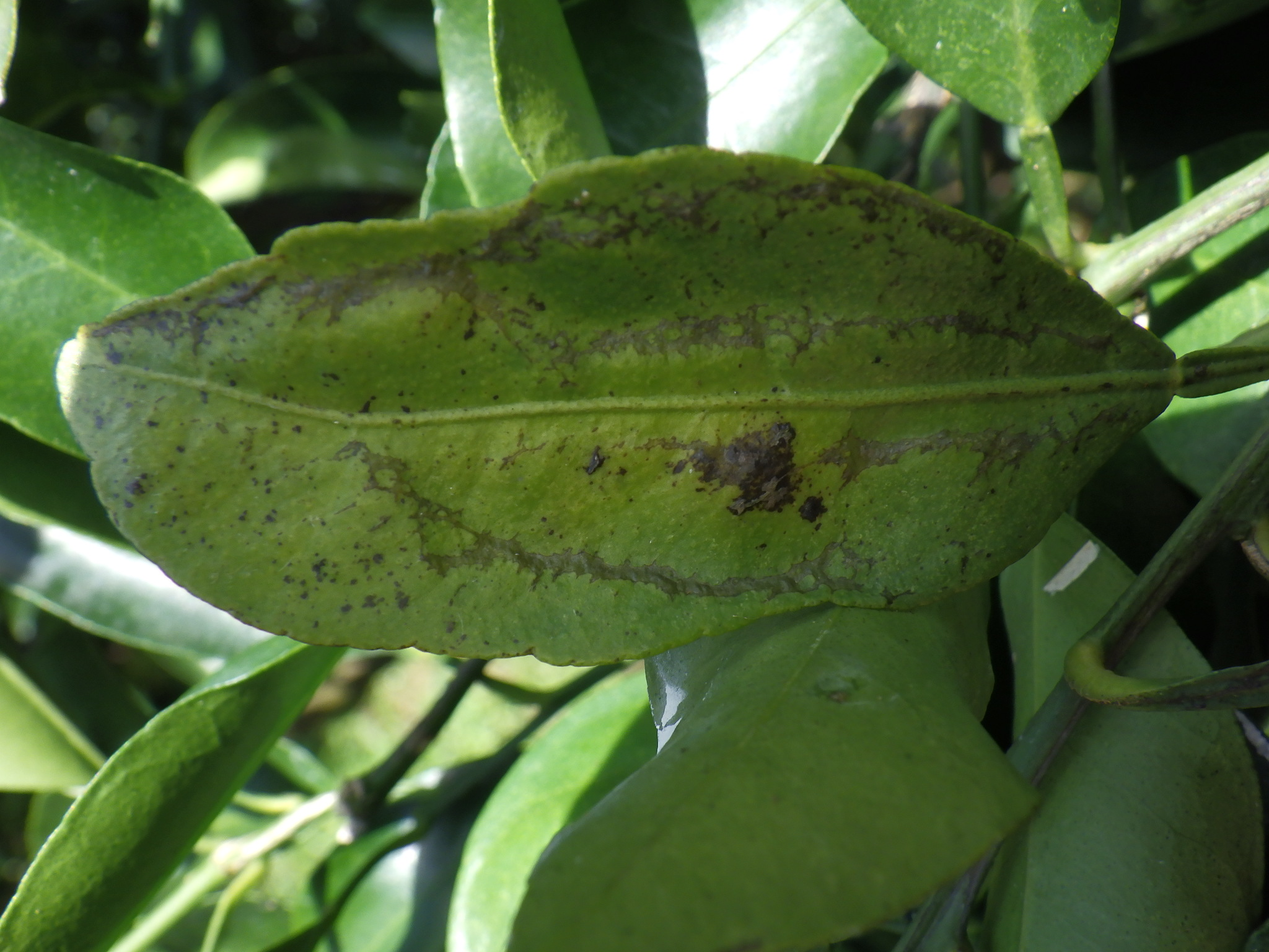Thrips_Damage: (81, 151, 1051, 653)
